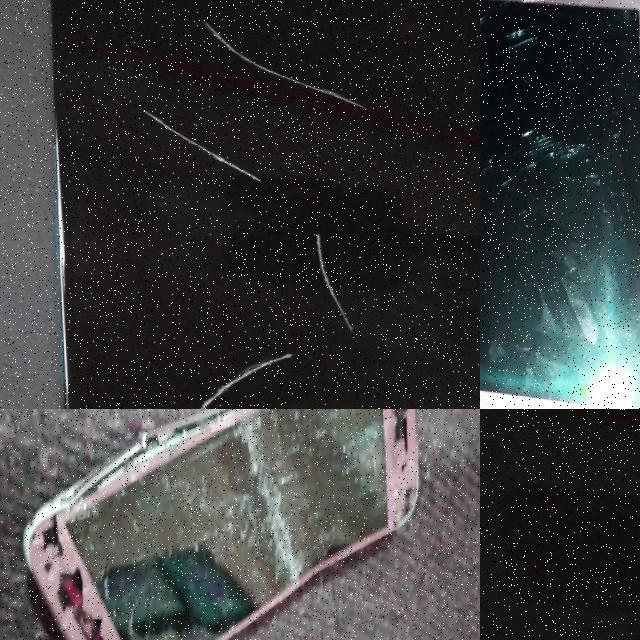scratch: (196, 10, 385, 110), (480, 97, 595, 206), (135, 99, 266, 191), (183, 335, 312, 409), (297, 219, 369, 330)
screen crack: (5, 409, 425, 640), (480, 0, 640, 30), (622, 283, 640, 366)
